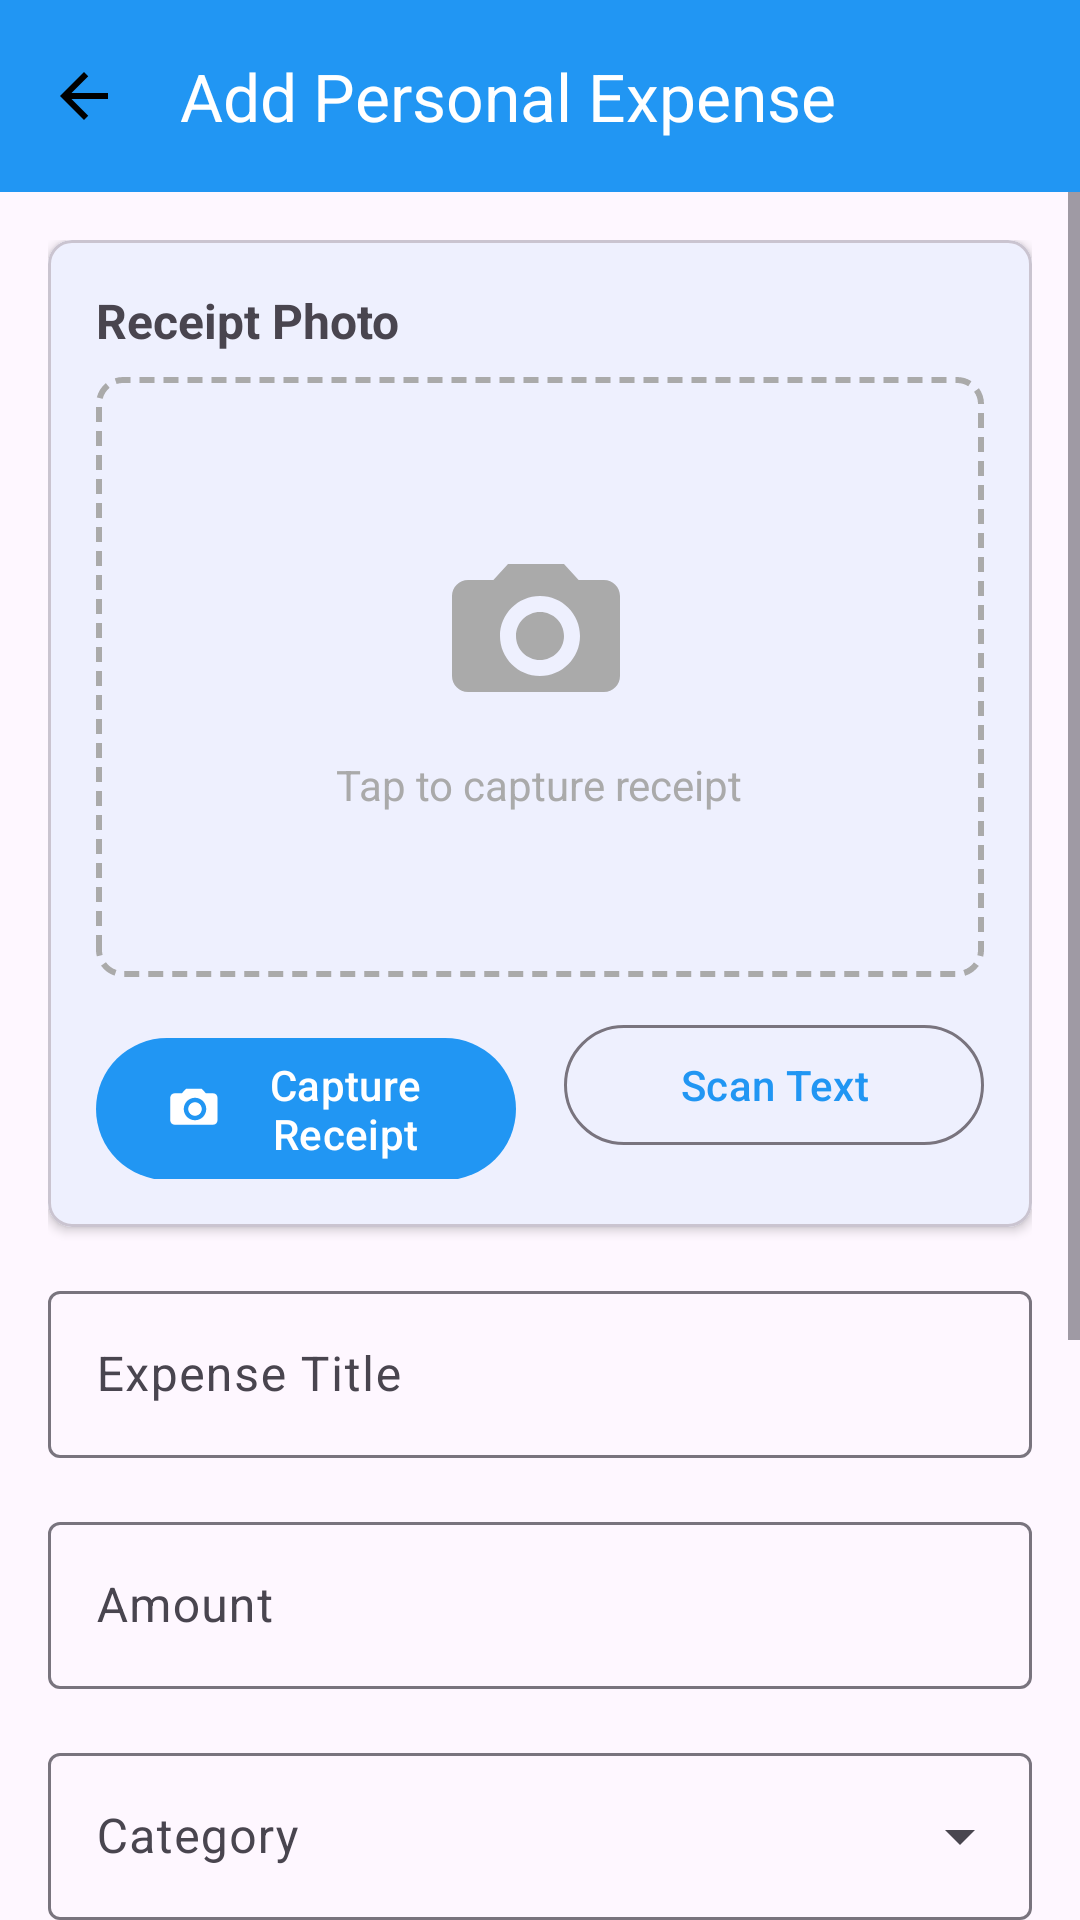

Where to tap for icons on this 1080px x 1920px app screen, as (x=x, y=y):
camera: (x=536, y=628)
